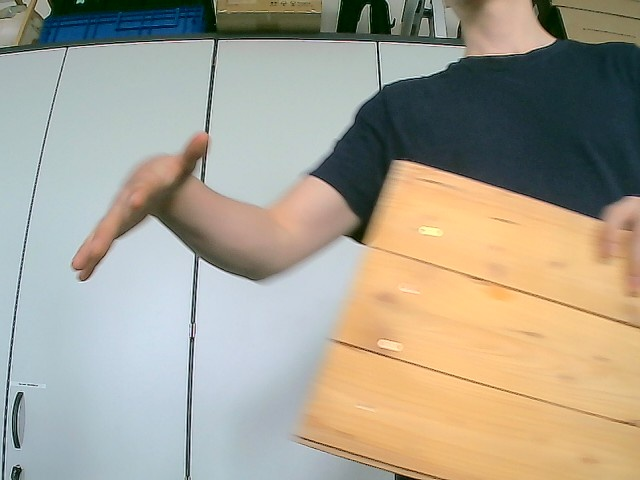no_gesture: (70, 130, 210, 282)
